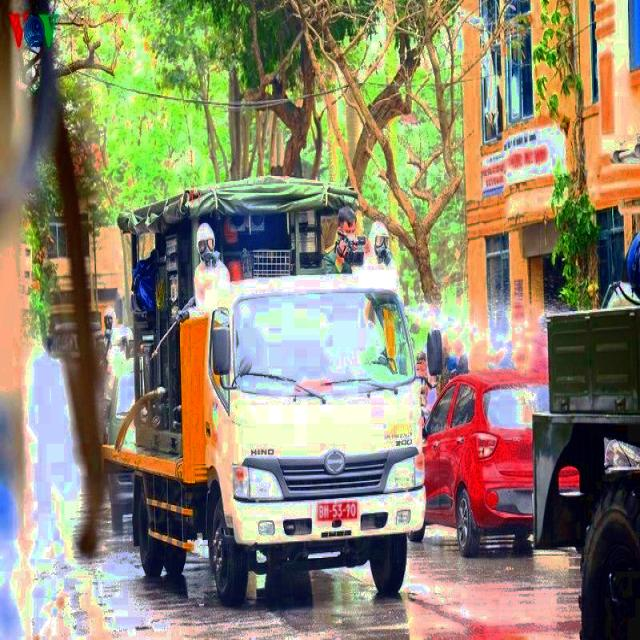license_plate: (318, 501, 359, 522)
